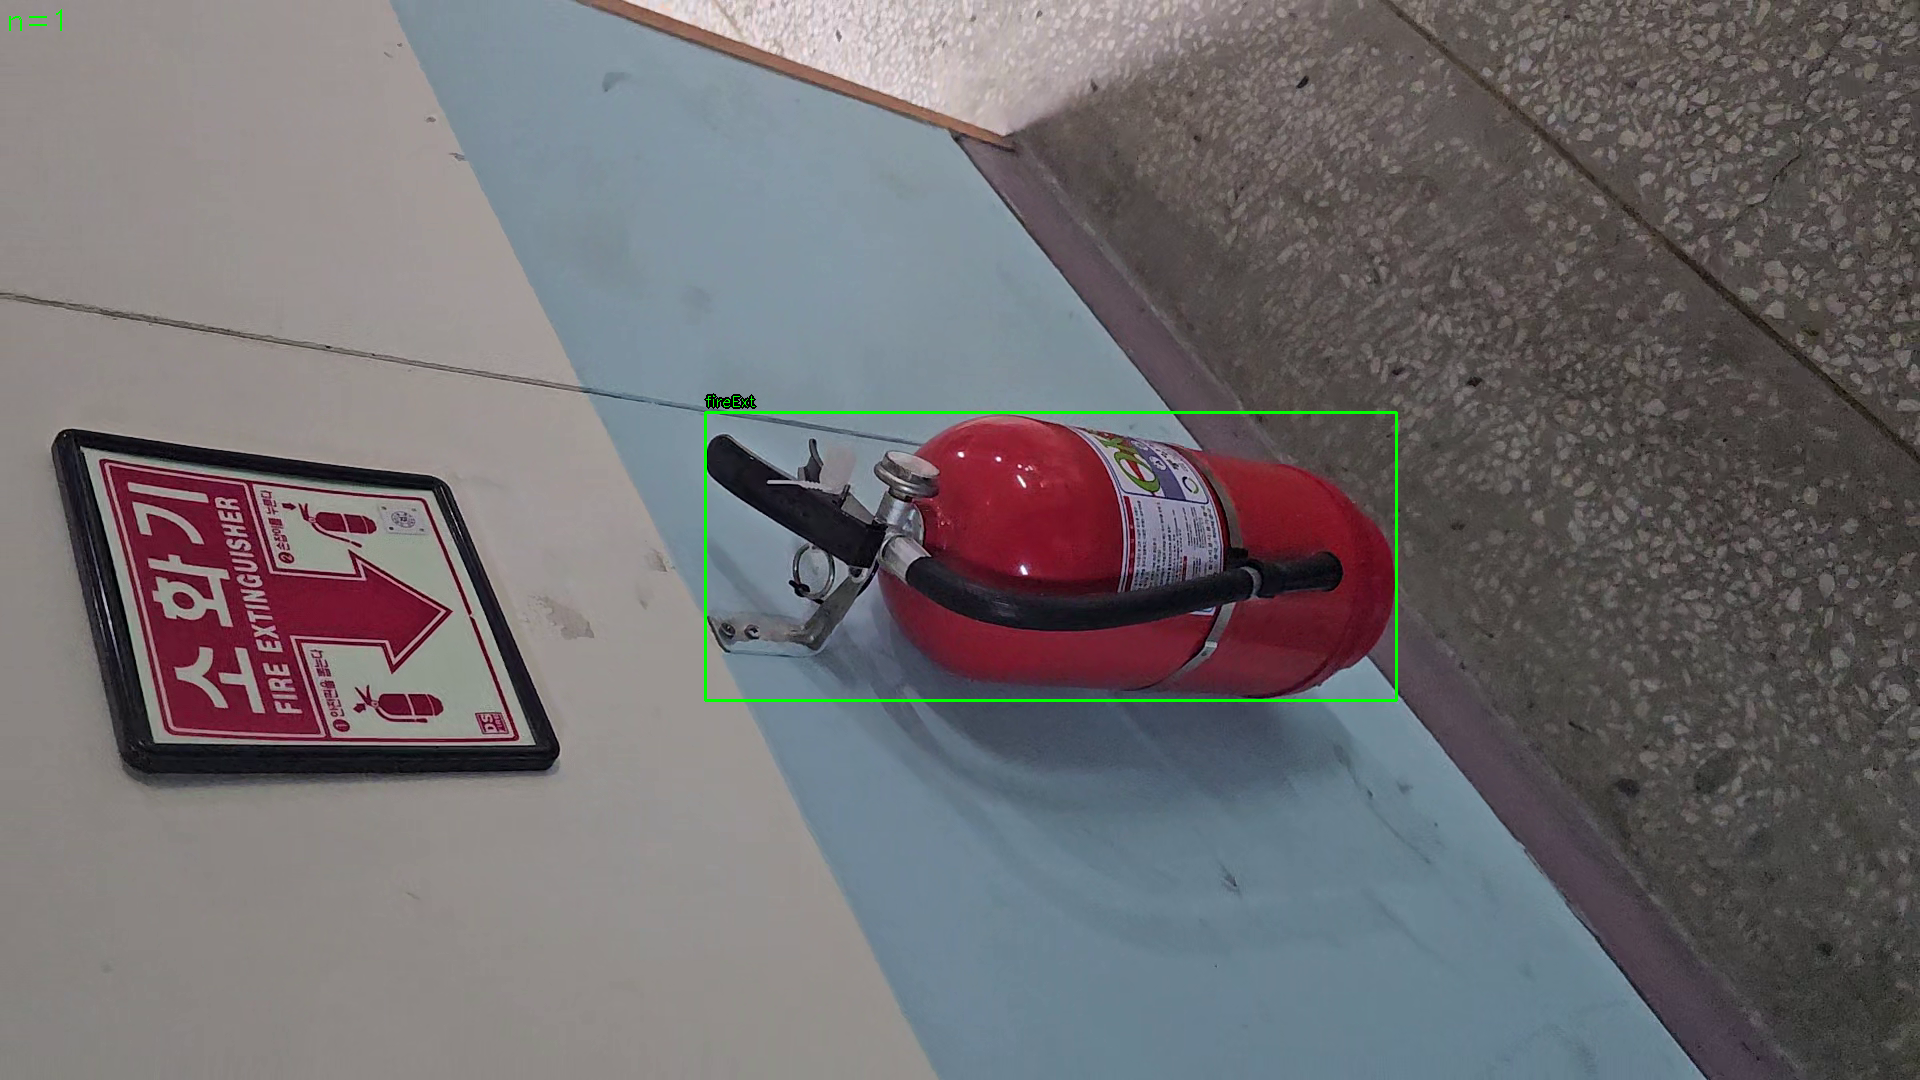lane: (705, 411, 1396, 702)
